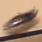cockroach: (2, 10, 38, 29)
